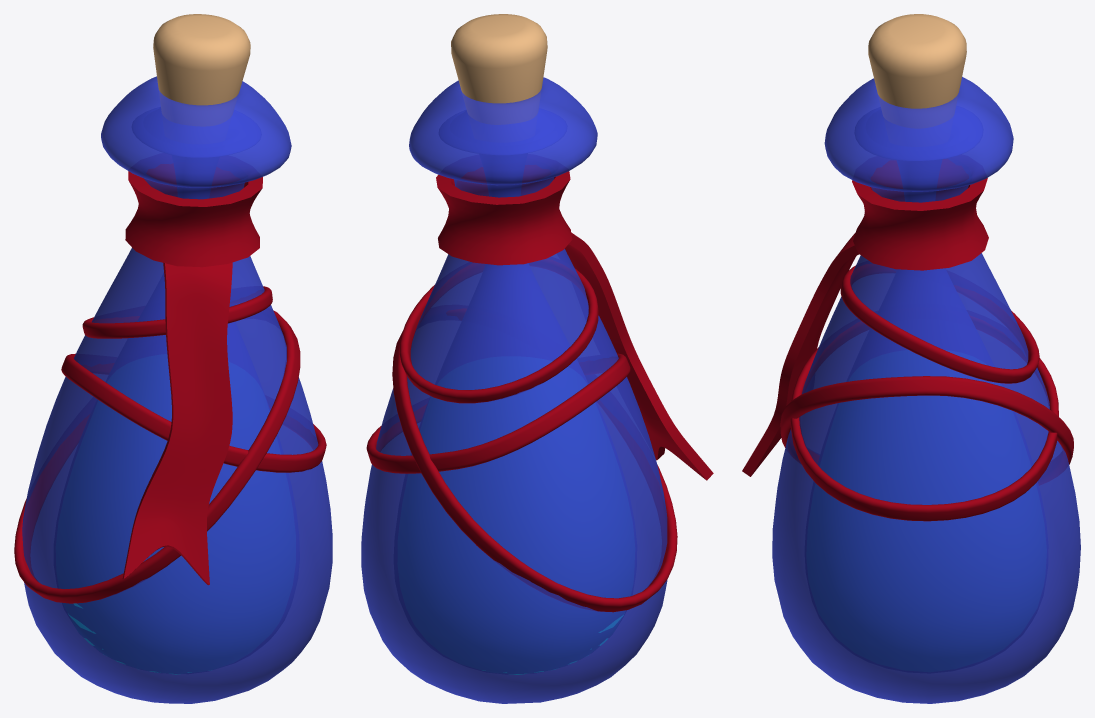
The model's file is Potion2.fbx.
3 views of the same model, side by side, from view 1: azimuth 30°, elevation 25°; view 2: azimuth 150°, elevation 25°; view 3: azimuth 270°, elevation 25° (orthographic).
Visible parts, largest first — view 1: bottle.001, strip2.001, strip1.001, cork.001, ribbon1.001, ribbon2.001, ribbon2.002; view 2: bottle.001, strip1.001, ribbon1.001, cork.001, ribbon2.001, strip2.001, ribbon2.002; view 3: bottle.001, strip1.001, cork.001, ribbon2.001, ribbon1.001, ribbon2.002, strip2.001.
Part boxes in pixels (x1,y1,x2,y2): bottle.001: (22, 76, 332, 703); strip2.001: (122, 262, 232, 585); strip1.001: (125, 164, 262, 267); cork.001: (153, 14, 250, 126); ribbon1.001: (14, 310, 300, 603); ribbon2.001: (61, 353, 326, 472); ribbon2.002: (82, 286, 272, 338); bottle.001: (361, 77, 667, 703); strip1.001: (436, 165, 572, 265); ribbon1.001: (392, 308, 677, 612); cork.001: (451, 14, 547, 124); ribbon2.001: (366, 353, 630, 473); strip2.001: (565, 232, 713, 480); ribbon2.002: (399, 259, 598, 403); bottle.001: (772, 77, 1080, 703); strip1.001: (852, 159, 988, 270); cork.001: (868, 14, 966, 128); ribbon2.001: (790, 316, 1058, 521); ribbon1.001: (780, 376, 1073, 485); ribbon2.002: (840, 264, 1039, 383); strip2.001: (742, 233, 858, 476).
Bounding box in the file's own units: 183 × 416 × 192.
